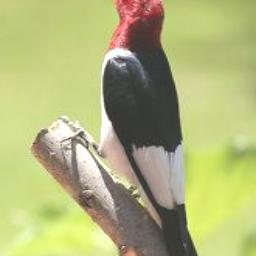Woodpecker: (82, 0, 206, 256)
